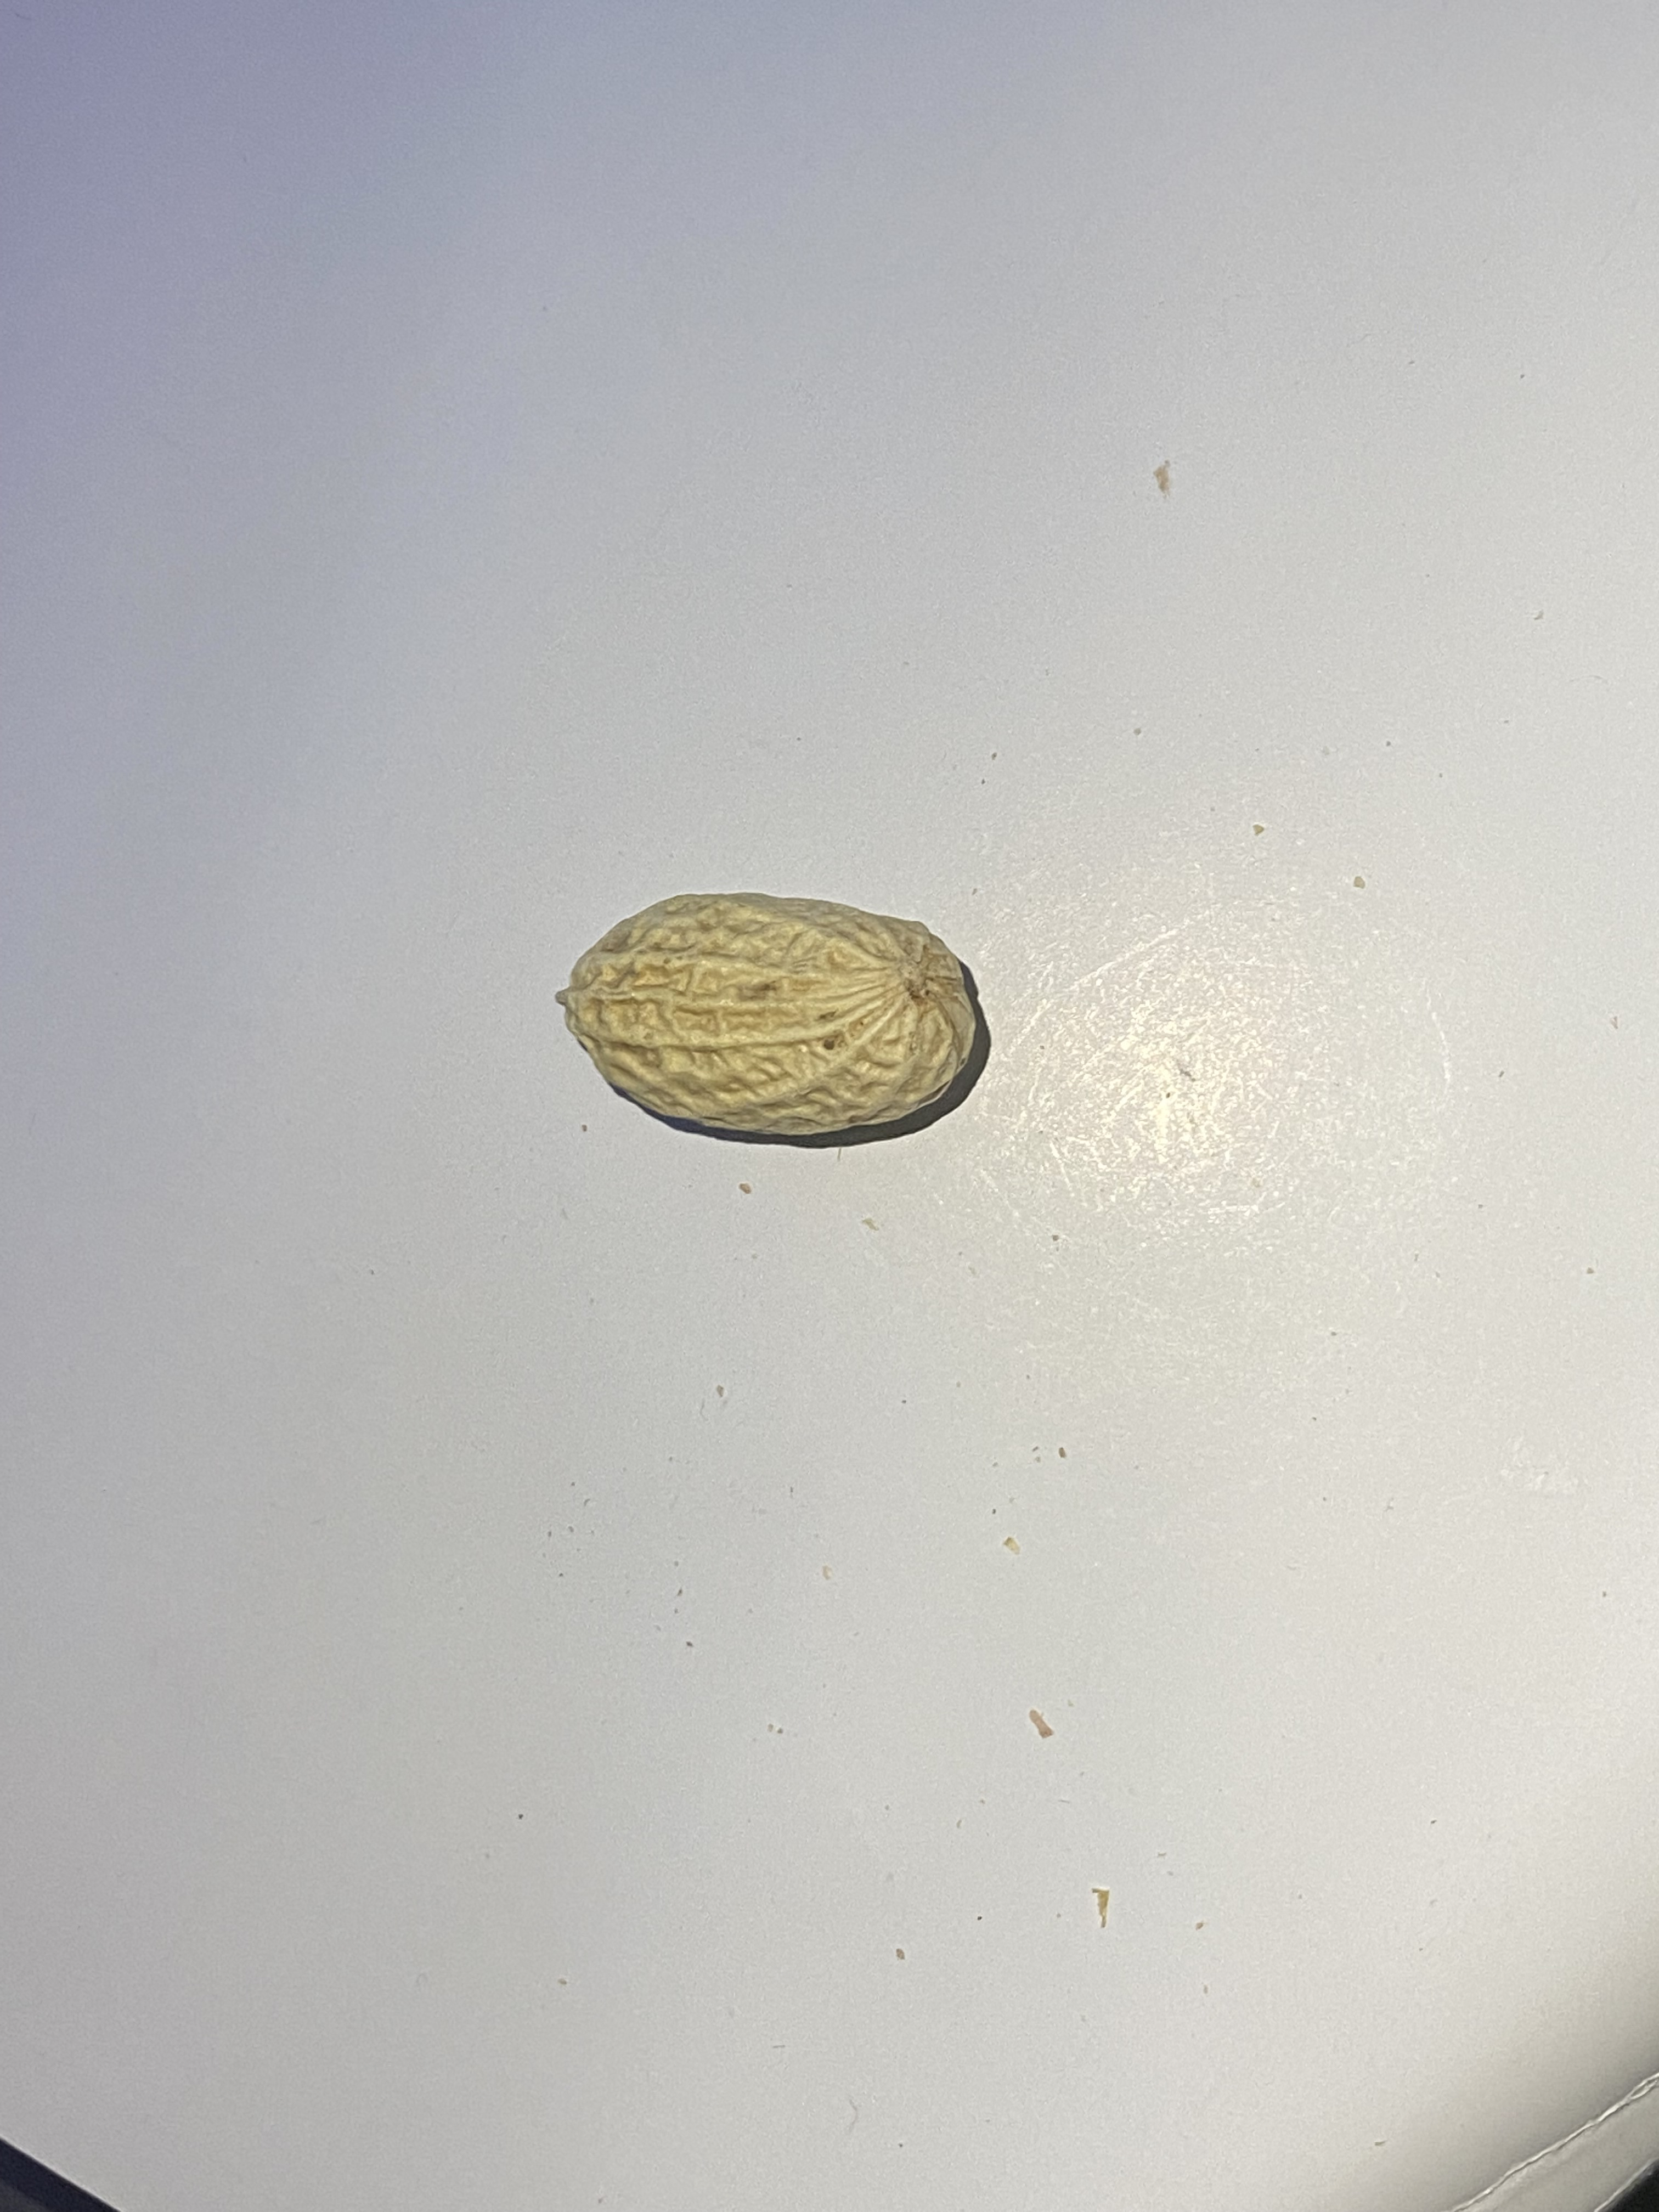kacang1: (552, 887, 1016, 1158)
